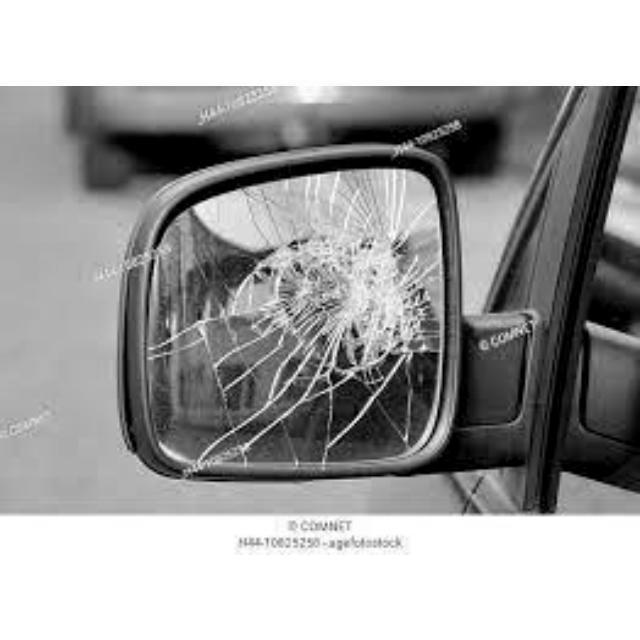Sidemirror-Damage: (116, 149, 499, 486)
